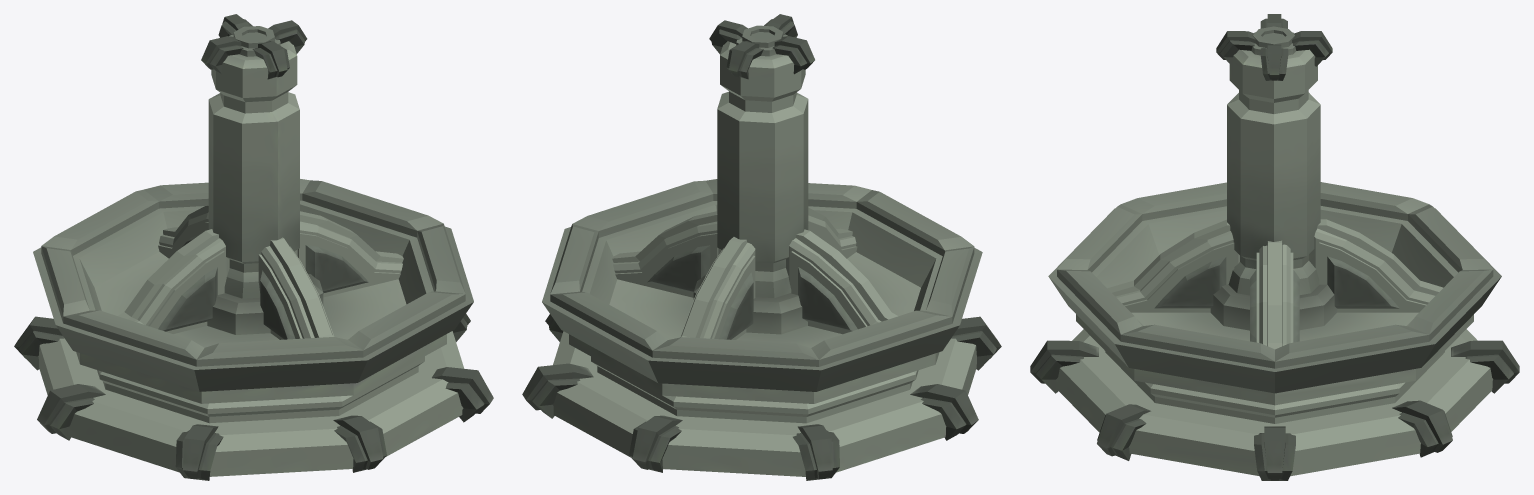
Rendered from fonte.glb.
3 renders of one model, left to right at view 1: azimuth 30°, elevation 25°; view 2: azimuth 150°, elevation 25°; view 3: azimuth 270°, elevation 25°, orthographic.
Visible parts, largest first — view 1: Fonte_0; view 2: Fonte_0; view 3: Fonte_0.
Part boxes in pixels (x1,y1,x2,y2): Fonte_0: (14,14,493,480); Fonte_0: (522,14,1001,480); Fonte_0: (1030,14,1519,480).
Size of the model in its own units: 2.03 by 1.64 by 2.03.
Materials: 1 (1 with a texture image).
